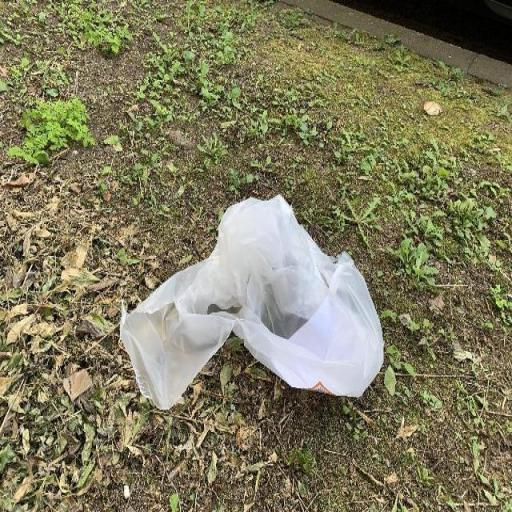plastic-bag: (118, 192, 388, 414)
